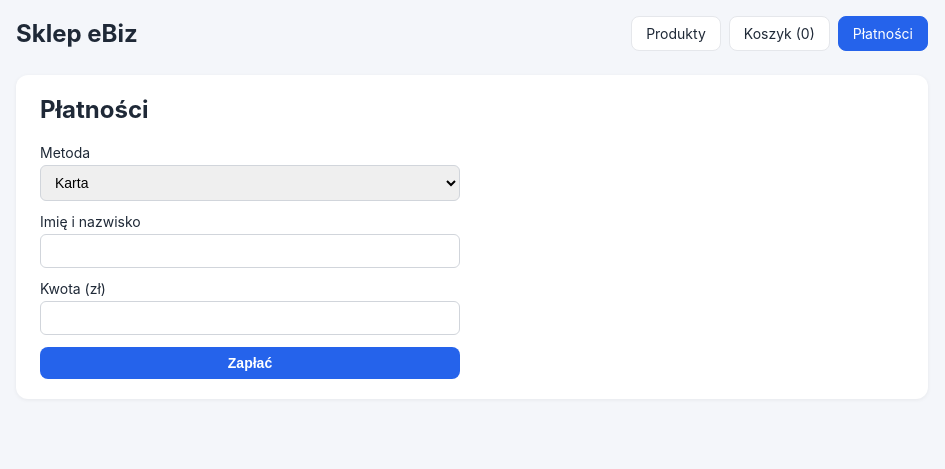
Test: 19 - Błąd płatności po stronie serwera › pokazuje status błędu z odpowiedzi backendu
This screenshot has width=945, height=469.
Type "Anna Nowak" into the field labelled "Imię i nazwisko" at (250, 251), box x1=40 y1=234 x2=460 y2=268
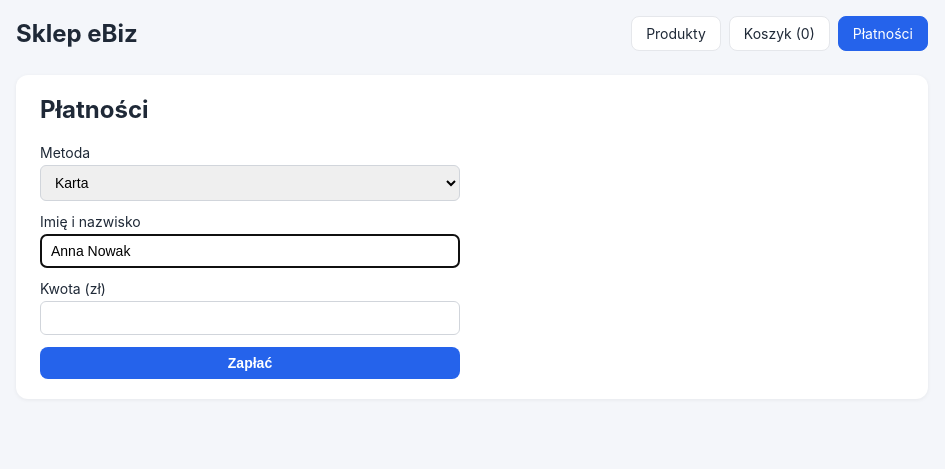
Type "10" into the number field labelled "Kwota (zł)" at (250, 318), box x1=40 y1=301 x2=460 y2=335
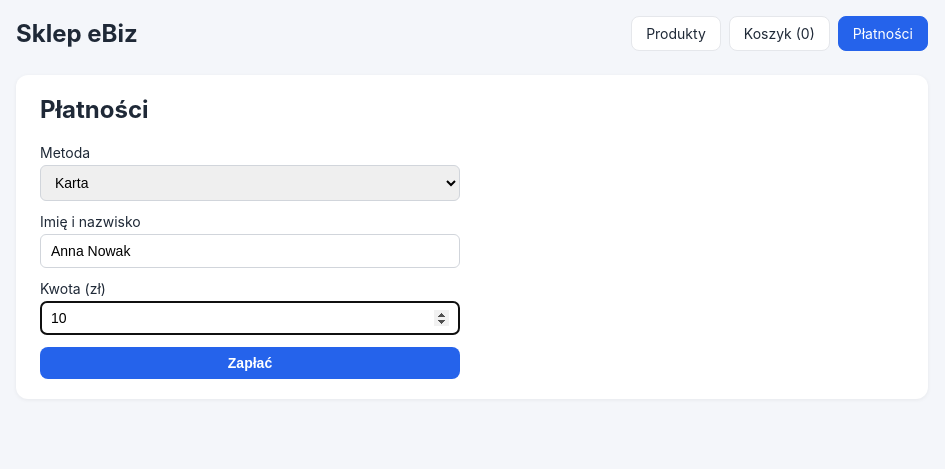
Click the button "Zapłać" at (250, 363), box x1=40 y1=347 x2=460 y2=379
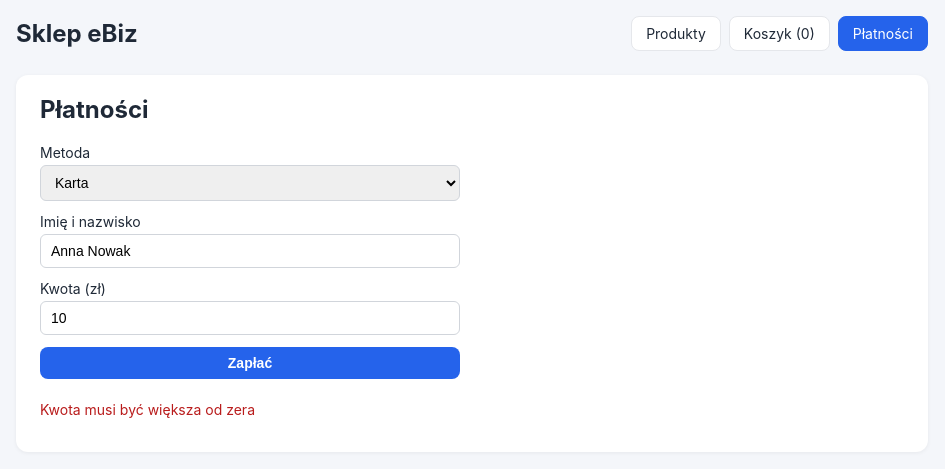
Now the text with class "err" reads "Kwota musi być większa od zera", box x1=40 y1=401 x2=255 y2=418
